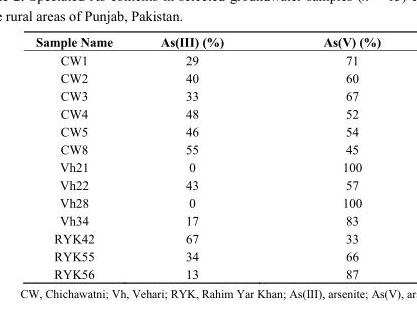table: (34, 34, 380, 280)
table column: (135, 34, 272, 280), (272, 34, 380, 280), (34, 34, 135, 280)
table column header: (34, 34, 380, 50)
table row: (34, 50, 380, 68), (34, 68, 380, 86), (34, 86, 380, 104), (34, 104, 380, 122), (34, 139, 380, 157), (34, 157, 380, 175), (34, 175, 380, 193), (34, 193, 380, 211), (34, 211, 380, 229), (34, 246, 380, 264), (34, 122, 380, 139), (34, 229, 380, 246), (34, 34, 380, 50), (34, 264, 380, 280)
